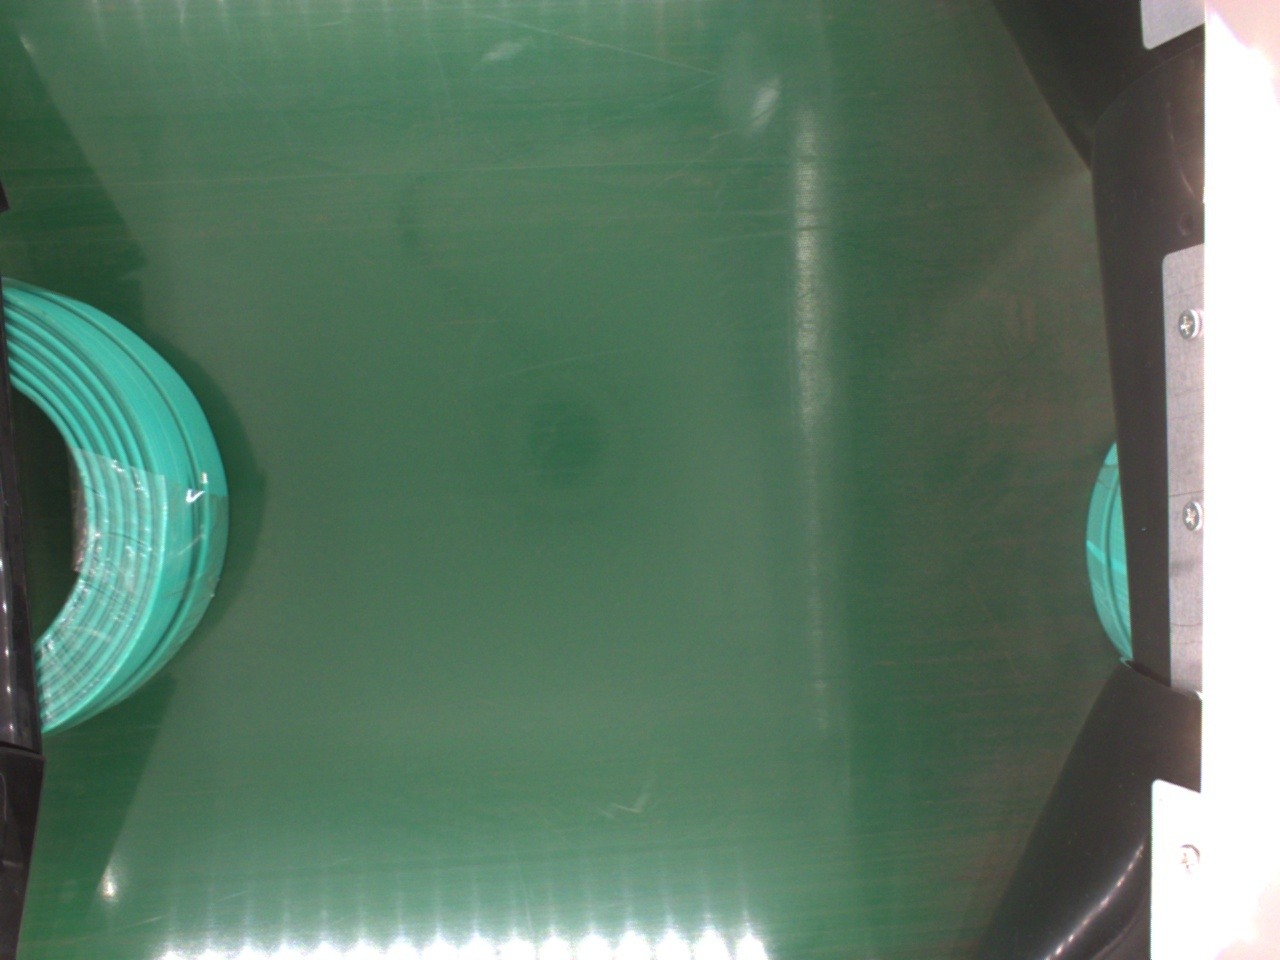green: (0, 275, 234, 744)
